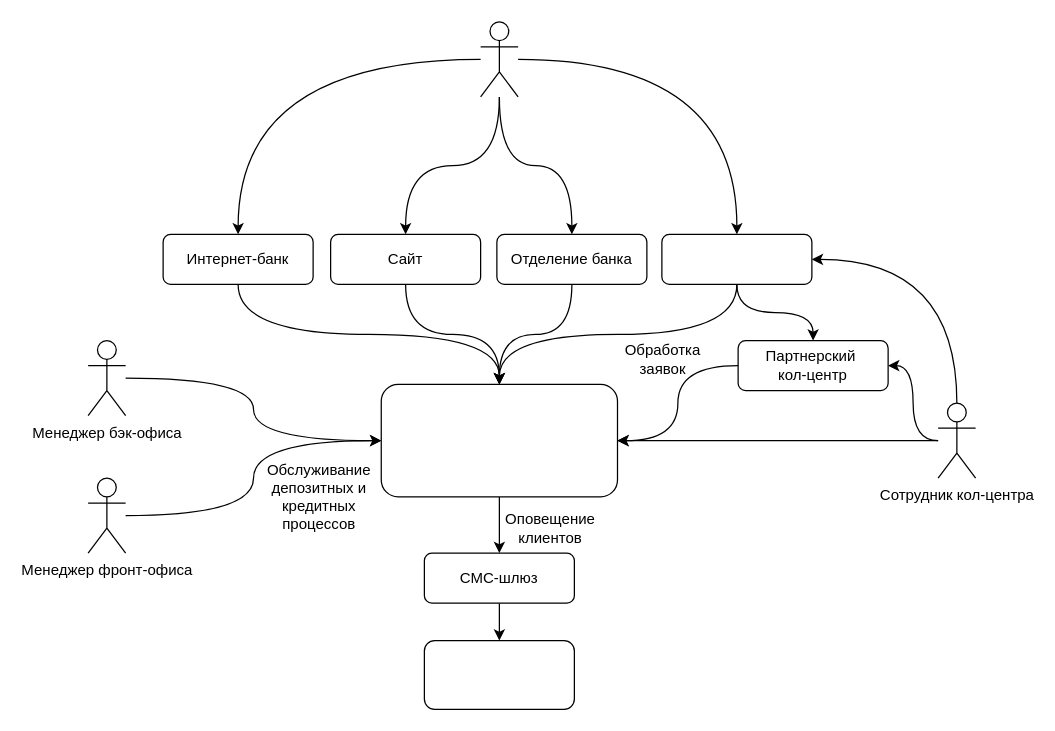
Image size: 1055x731. Some labels were removed from this diagram. The shapes that lost their labels are listed below. From the top down, each one's centre as x and y in pixels, then its label:
(x=498, y=59): Клиент банка
(x=736, y=258): Кол-центр
(x=499, y=440): АБС
(x=498, y=674): Телеком-оператор
